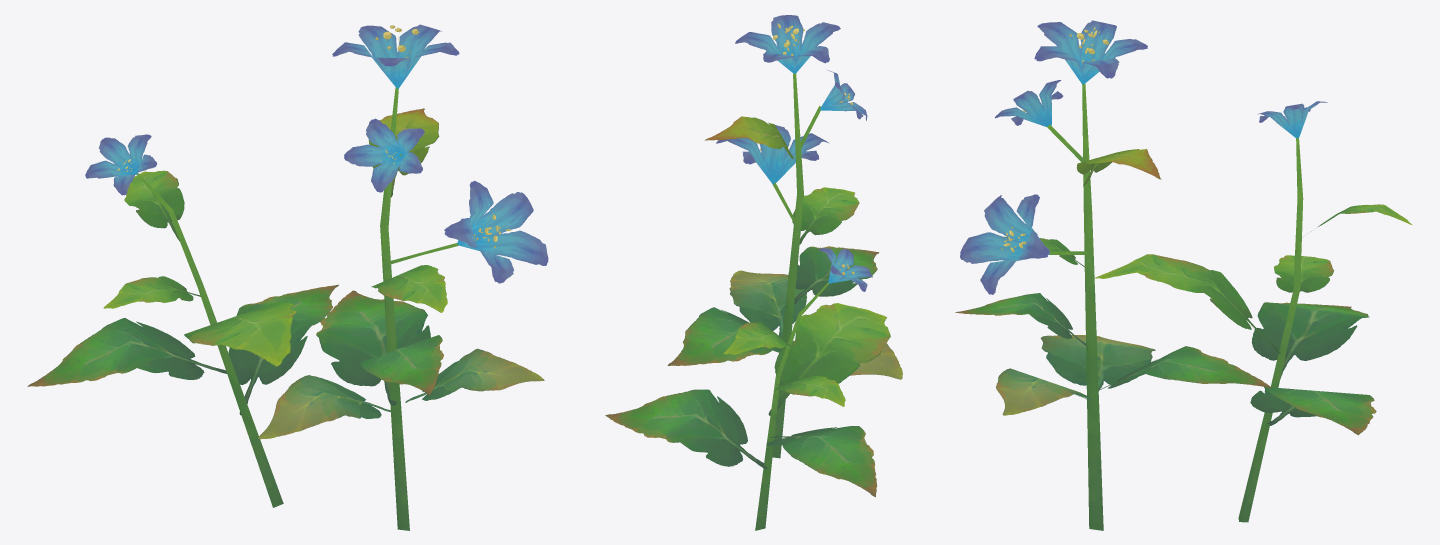
The model's file is Homeworld_Exterior_Common_Thing_Fishpond_E_01_Vo.fbx.
3 renders of one model, left to right at view 1: azimuth 30°, elevation 25°; view 2: azimuth 150°, elevation 25°; view 3: azimuth 270°, elevation 25°, orthographic. The views are drawn at different scales.
Visible parts, largest first — view 1: Homeworld_Exterior_Common_Thing_Fishpond_E_01_Vo; view 2: Homeworld_Exterior_Common_Thing_Fishpond_E_01_Vo; view 3: Homeworld_Exterior_Common_Thing_Fishpond_E_01_Vo.
Part boxes in pixels (x1,y1,x2,y2): Homeworld_Exterior_Common_Thing_Fishpond_E_01_Vo: (27,24,548,530); Homeworld_Exterior_Common_Thing_Fishpond_E_01_Vo: (605,15,902,530); Homeworld_Exterior_Common_Thing_Fishpond_E_01_Vo: (955,20,1411,530).
Size of the model in its own units: 1.49 by 2.09 by 1.76.
1 material, 1 textured.
